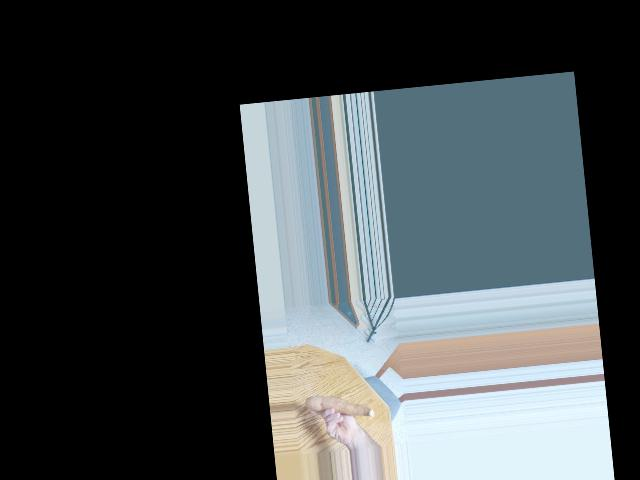sweet_potato: (306, 387, 375, 423)
